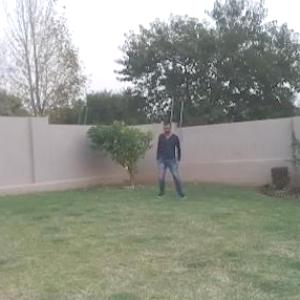follow: (156, 113, 185, 202)
